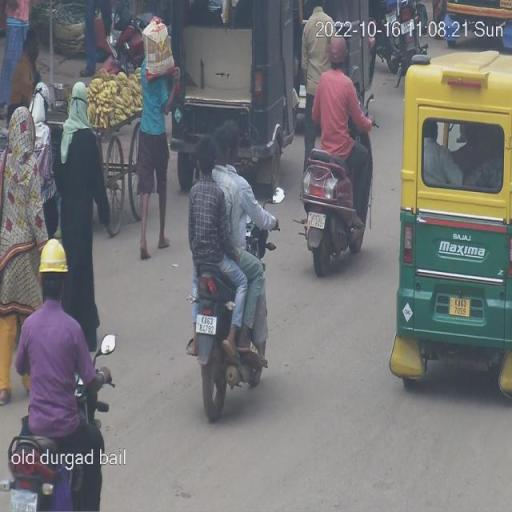tripple riding: (182, 119, 286, 283)
